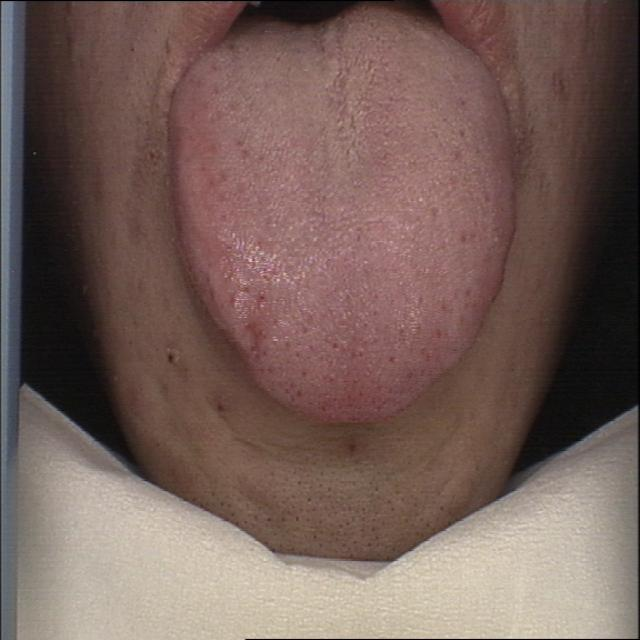tongue: (165, 5, 524, 432)
